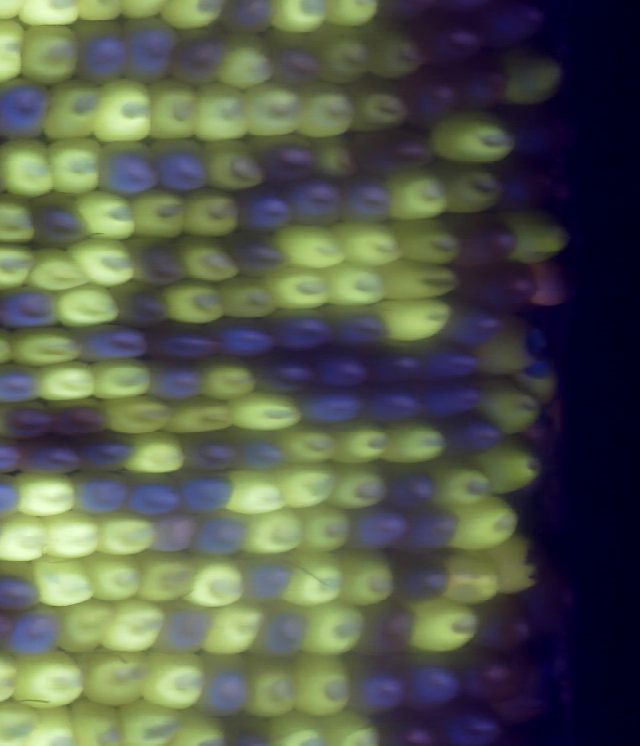fluorescent: (7, 644, 91, 718), (429, 105, 522, 169), (467, 376, 550, 442), (76, 645, 158, 711), (405, 594, 484, 662), (433, 544, 511, 611), (472, 317, 551, 383), (238, 653, 310, 724), (139, 648, 215, 715), (445, 491, 521, 557), (311, 22, 382, 92), (496, 45, 571, 110), (276, 544, 347, 612), (472, 435, 544, 502), (423, 454, 497, 519), (271, 217, 351, 277), (15, 18, 83, 88), (88, 73, 159, 140), (501, 204, 574, 269), (198, 135, 273, 198), (433, 157, 509, 219), (320, 457, 396, 519), (331, 213, 408, 274), (40, 135, 111, 201), (383, 166, 457, 229), (289, 79, 364, 141), (374, 294, 460, 348), (391, 213, 471, 271), (181, 548, 253, 612), (0, 131, 63, 204), (79, 546, 152, 609), (102, 593, 175, 656), (377, 257, 470, 306), (212, 29, 283, 93), (174, 226, 246, 289), (240, 501, 312, 564), (298, 597, 371, 658), (157, 391, 244, 442), (41, 74, 106, 142), (140, 74, 204, 143), (292, 649, 353, 721), (238, 79, 310, 140), (69, 231, 143, 290), (35, 506, 110, 564), (202, 597, 271, 660), (48, 278, 130, 331), (20, 245, 94, 303), (189, 79, 254, 145), (485, 532, 547, 601), (344, 76, 414, 137), (124, 186, 194, 247), (71, 185, 143, 244), (129, 549, 201, 608), (85, 351, 162, 406), (5, 321, 86, 373), (175, 183, 246, 242), (375, 419, 454, 472), (224, 386, 304, 438), (64, 693, 142, 746), (296, 498, 362, 560), (272, 456, 342, 514), (8, 466, 83, 520), (216, 465, 292, 518), (339, 547, 400, 613), (97, 391, 179, 440), (192, 351, 263, 407), (90, 506, 161, 562), (30, 553, 101, 609), (325, 417, 398, 471), (108, 698, 189, 746), (366, 22, 429, 82), (273, 422, 347, 472), (123, 429, 197, 479), (211, 273, 282, 324), (163, 274, 231, 327), (54, 599, 121, 651), (31, 357, 103, 405), (319, 263, 389, 312), (0, 509, 58, 567), (268, 265, 336, 314), (18, 703, 92, 746), (309, 133, 366, 185), (263, 1, 333, 41), (169, 706, 235, 746), (0, 189, 44, 248), (0, 239, 44, 294), (0, 696, 47, 746), (521, 357, 565, 410), (322, 1, 380, 32)
nonfluorescent: (481, 151, 582, 216), (506, 99, 589, 177), (455, 256, 544, 322), (439, 203, 520, 274), (337, 653, 418, 722), (407, 7, 490, 71), (350, 124, 440, 183), (398, 59, 468, 132), (196, 647, 263, 723), (451, 645, 530, 709), (70, 15, 138, 89), (118, 11, 184, 87), (471, 1, 559, 58), (90, 133, 165, 199), (240, 597, 316, 662), (162, 21, 232, 90), (147, 596, 218, 664), (397, 649, 469, 716), (22, 187, 92, 255), (148, 132, 214, 202), (473, 590, 539, 660), (354, 594, 419, 665), (385, 502, 468, 556), (451, 46, 515, 116), (251, 129, 321, 192), (337, 502, 415, 558), (388, 547, 457, 610), (262, 24, 327, 90), (199, 314, 283, 365), (140, 316, 225, 366), (433, 409, 507, 466), (228, 548, 302, 605), (4, 601, 72, 663), (247, 346, 325, 400), (122, 232, 193, 291), (167, 464, 243, 519), (70, 318, 153, 368), (261, 304, 340, 356), (172, 425, 245, 481), (283, 172, 352, 231), (321, 298, 394, 353), (106, 279, 176, 336), (220, 226, 295, 279), (184, 508, 255, 562), (414, 376, 489, 427), (0, 73, 55, 142), (440, 295, 505, 353), (71, 469, 143, 521), (0, 554, 54, 622), (376, 457, 438, 516), (118, 467, 187, 520), (293, 386, 372, 432), (0, 279, 68, 331), (233, 181, 297, 236), (338, 173, 398, 231), (519, 256, 577, 316), (355, 385, 434, 429), (230, 423, 293, 478), (140, 358, 210, 407), (69, 428, 136, 479), (360, 342, 431, 390), (305, 347, 377, 393), (14, 434, 86, 480), (415, 335, 481, 385), (47, 396, 117, 443), (443, 698, 507, 746), (141, 510, 205, 555), (0, 399, 61, 446), (214, 1, 290, 37), (375, 710, 450, 746), (0, 357, 49, 405)
